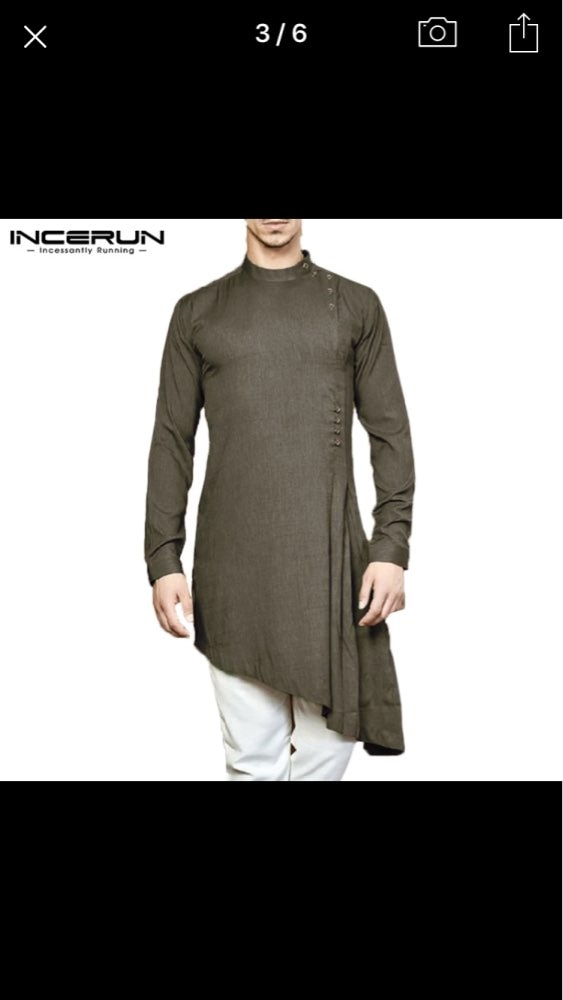shirts: (166, 273, 411, 735)
